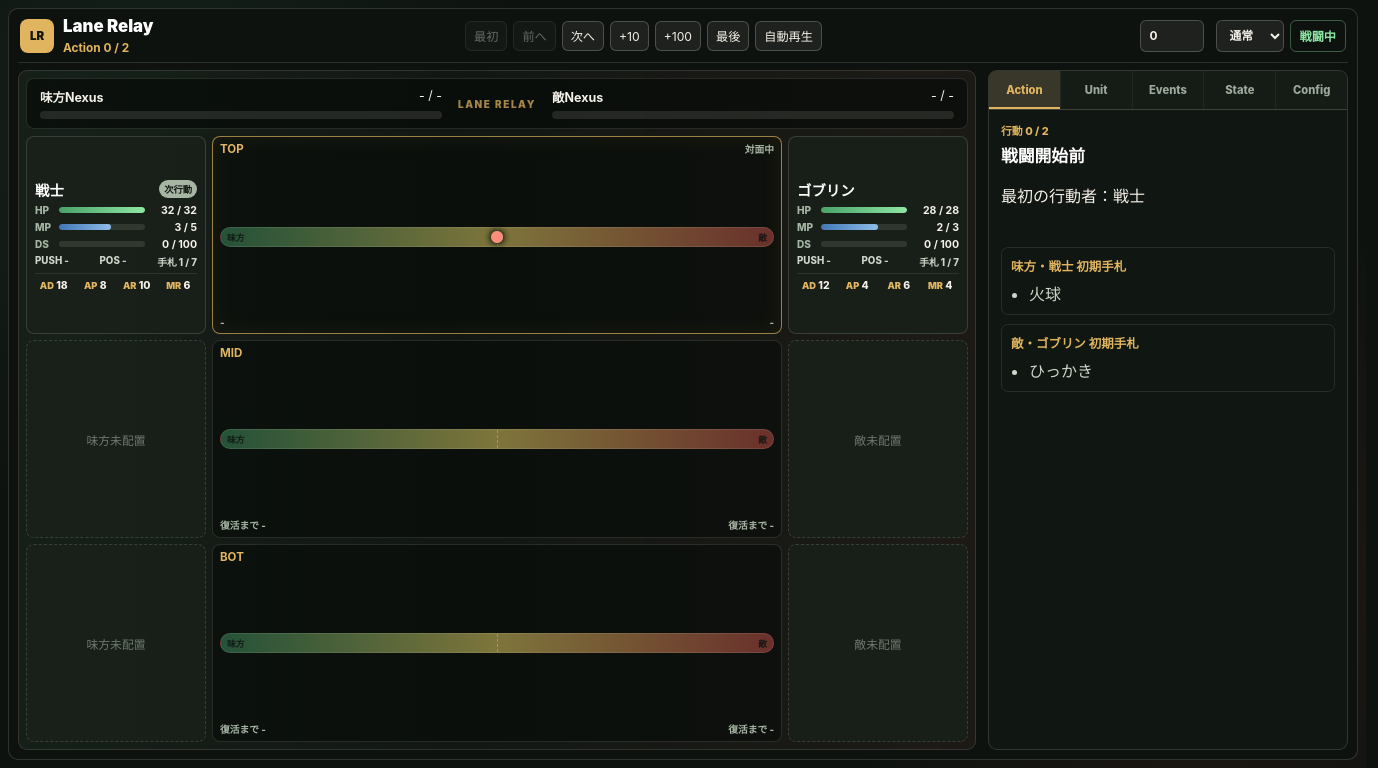
App › animation lock prevents repeated operation while busy
This screenshot has width=1378, height=768.
Step 1. Click the button "次へ" → coordinates (583, 36), box x1=562 y1=21 x2=604 y2=51
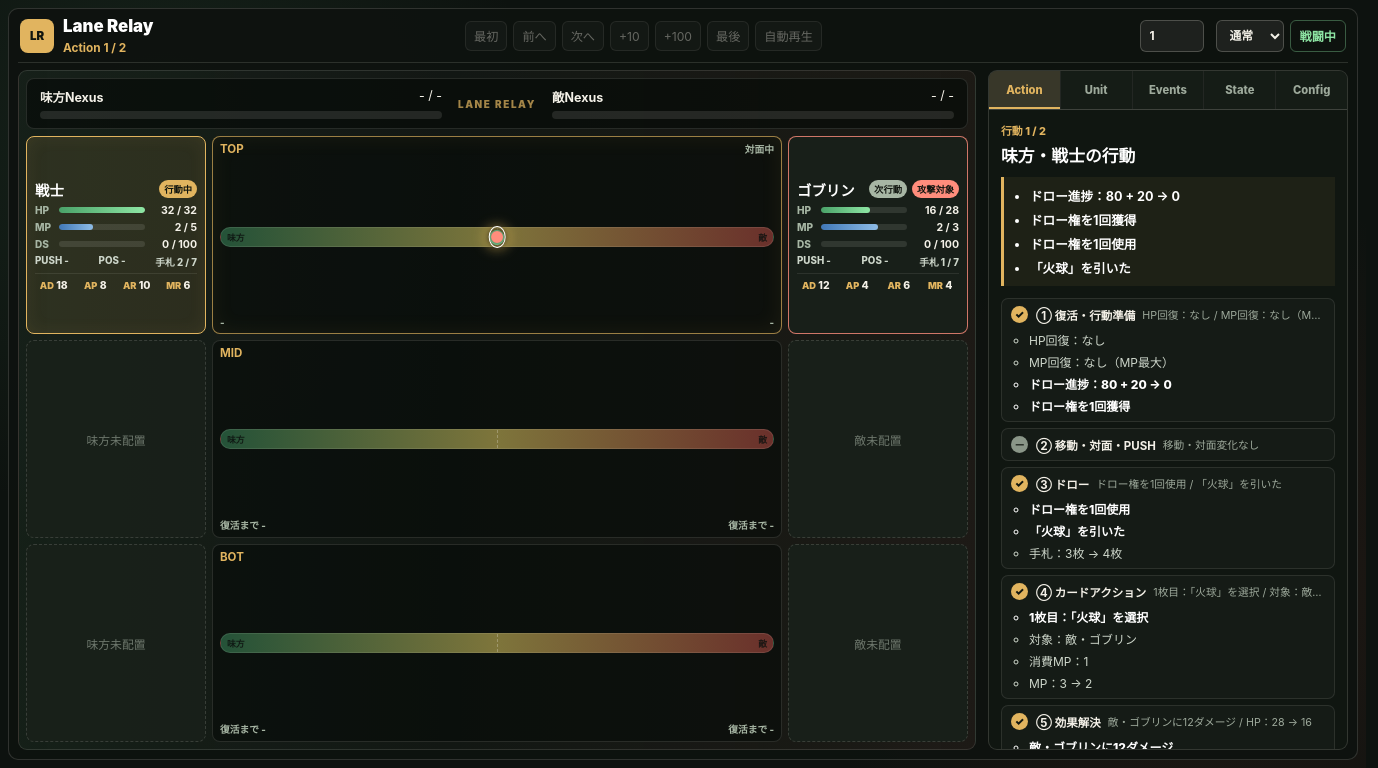
Step 2. Click the button "次へ" → coordinates (583, 36), box x1=562 y1=21 x2=604 y2=51
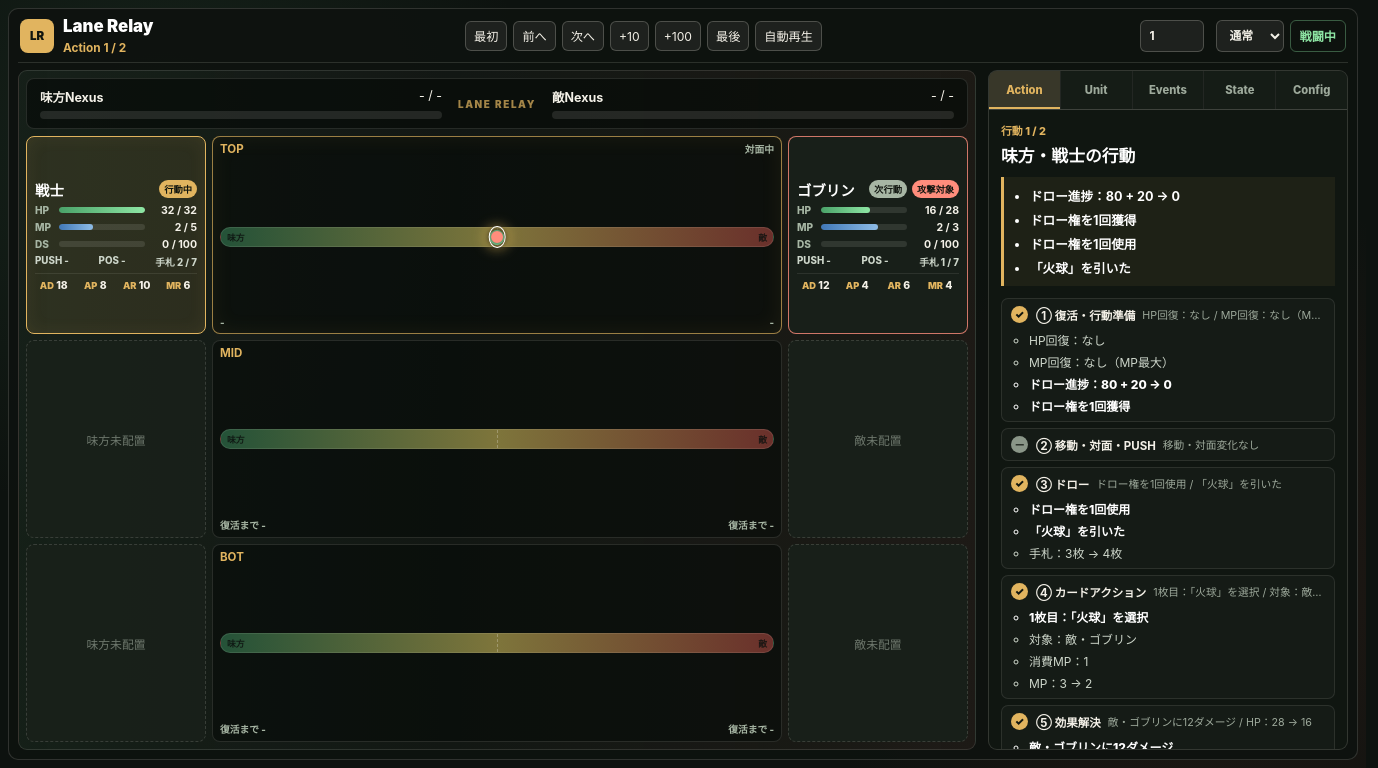
Check: the text "行動 2 / 2" is not shown
Check: the text "行動 1 / 2" is shown, box x1=1001 y1=124 x2=1046 y2=138
Step 3. Click the button "次へ" → coordinates (583, 36), box x1=562 y1=21 x2=604 y2=51
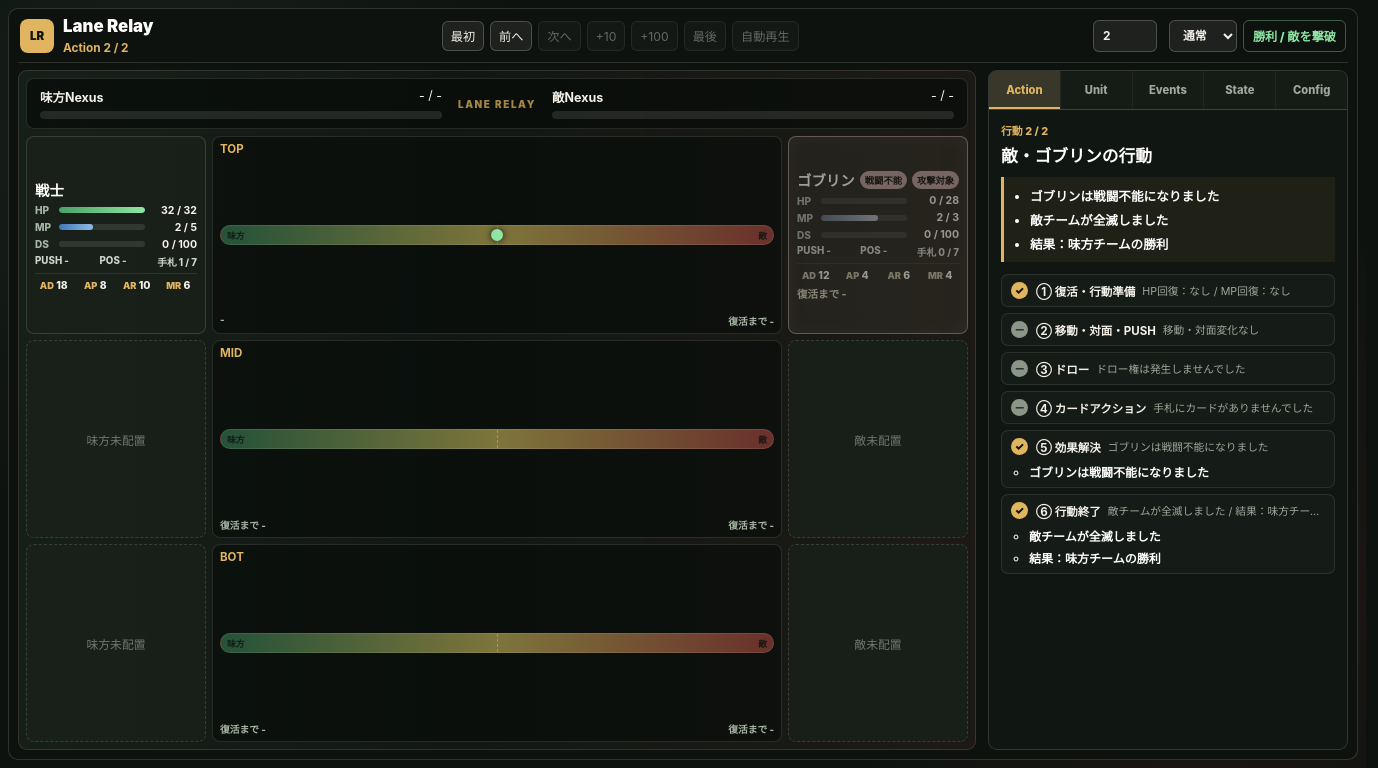
Check: the text "行動 2 / 2" is shown, box x1=1001 y1=124 x2=1048 y2=138
